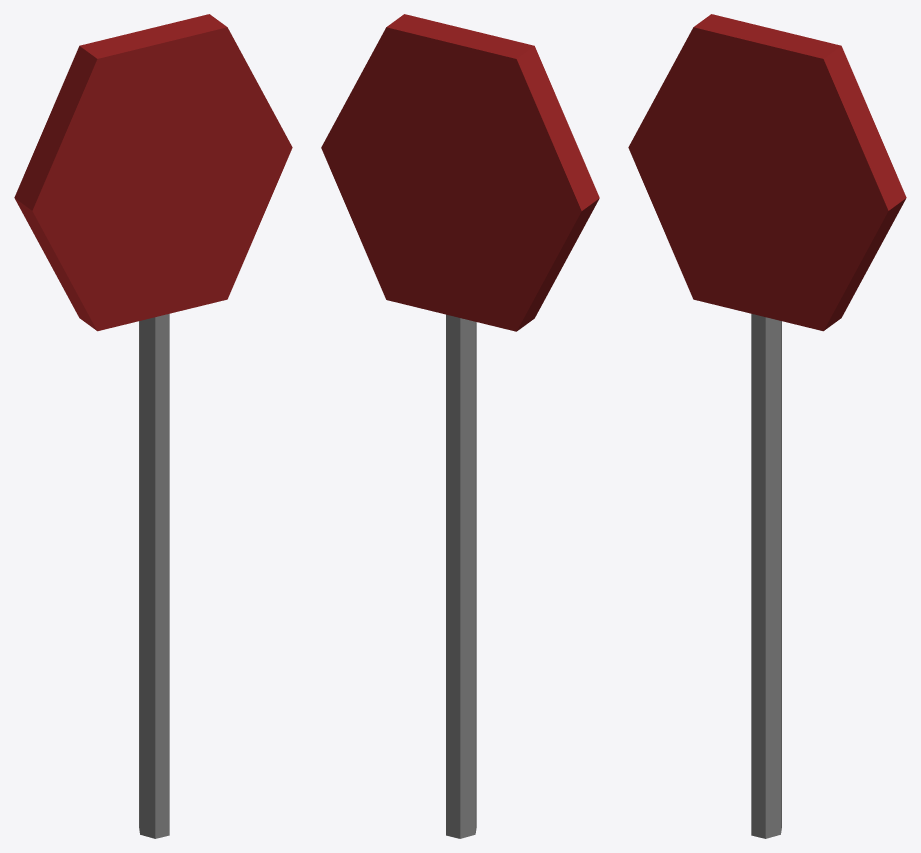
File: stop-sign.glb
The picture shows the model from 3 angles, left to right: view 1: azimuth 30°, elevation 25°; view 2: azimuth 150°, elevation 25°; view 3: azimuth 330°, elevation 25°; orthographic projection.
Parts seen in each view (by area): view 1: Street Sign 1 A; view 2: Street Sign 1 A; view 3: Street Sign 1 A.
Boxes of the visible parts, bbox=[...] form: Street Sign 1 A: bbox=[14, 14, 292, 838]; Street Sign 1 A: bbox=[321, 14, 599, 838]; Street Sign 1 A: bbox=[628, 14, 906, 838].
Size of what is drawn, in the model's own units: 1.83 by 5.33 by 0.2197.
Materials: 1 (1 with a texture image).
